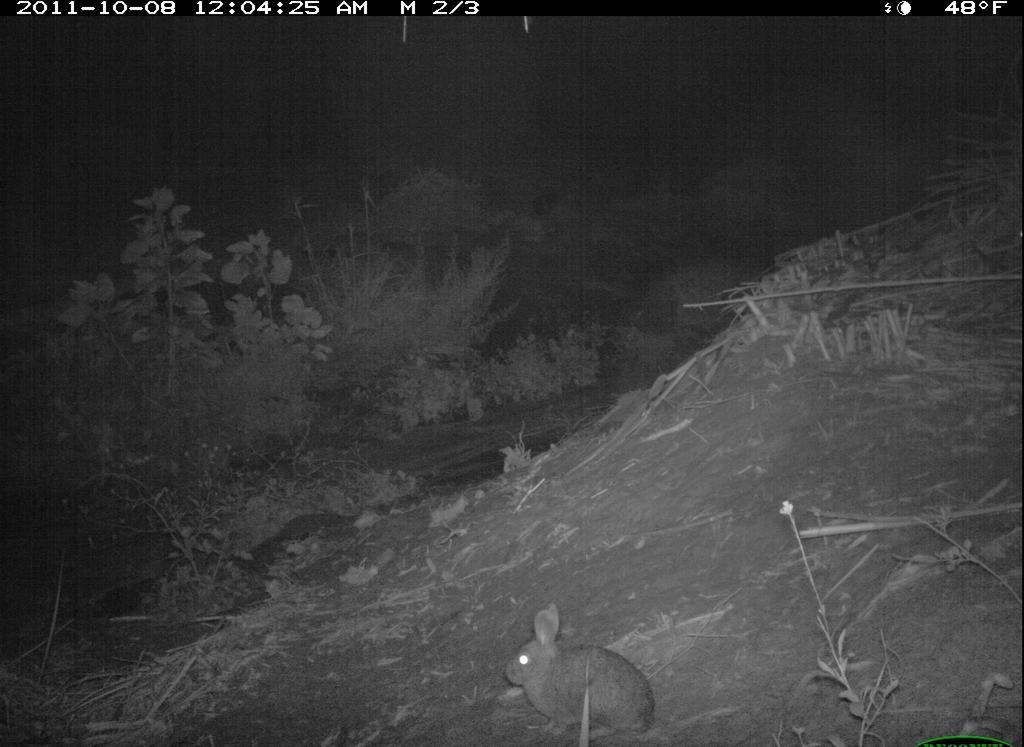rabbit: (504, 606, 658, 720)
